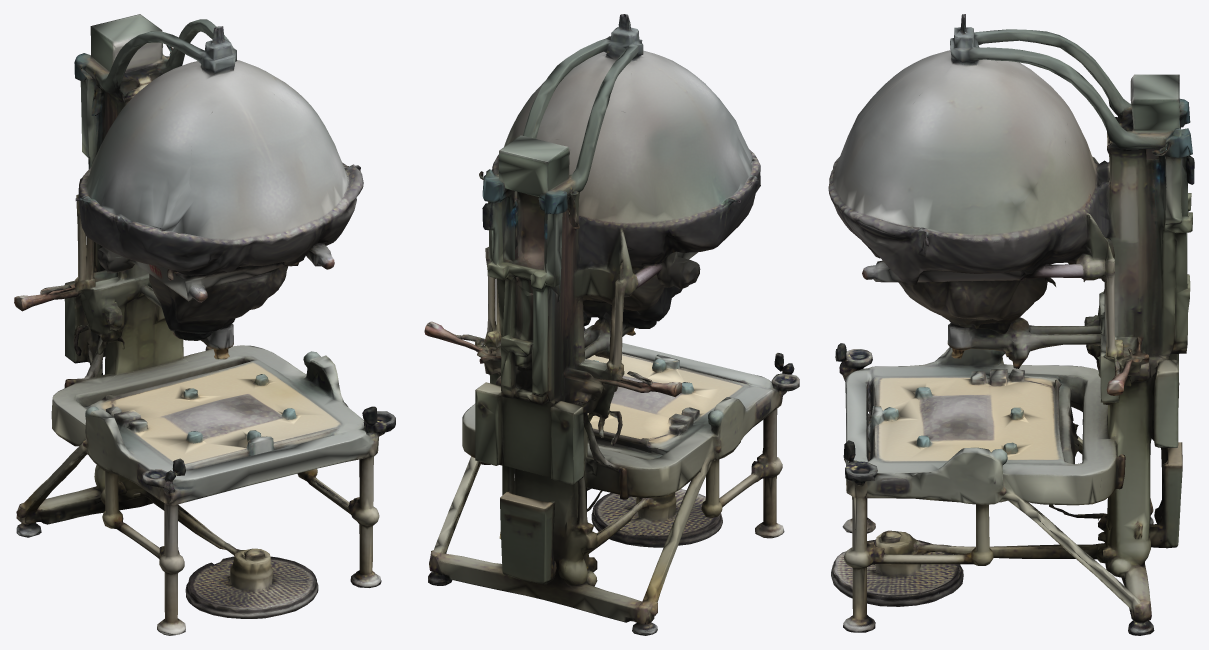
The picture shows the model from 3 angles, left to right: view 1: azimuth 30°, elevation 25°; view 2: azimuth 150°, elevation 25°; view 3: azimuth 270°, elevation 25°; orthographic projection. The views are drawn at different scales.
Visible parts, largest first — view 1: geometry_0; view 2: geometry_0; view 3: geometry_0.
Part boxes in pixels (left/top/right/bottom): geometry_0: left=14, top=14, right=395, bottom=635; geometry_0: left=424, top=14, right=799, bottom=635; geometry_0: left=828, top=14, right=1194, bottom=635.
Size of the model in its own units: 0.5001 by 1 by 0.59.
1 material, 1 textured.
